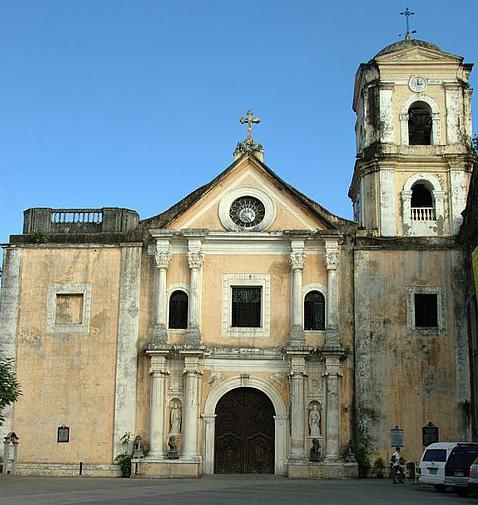san_agustin_church_intramuros_manila: (136, 2, 478, 483)
